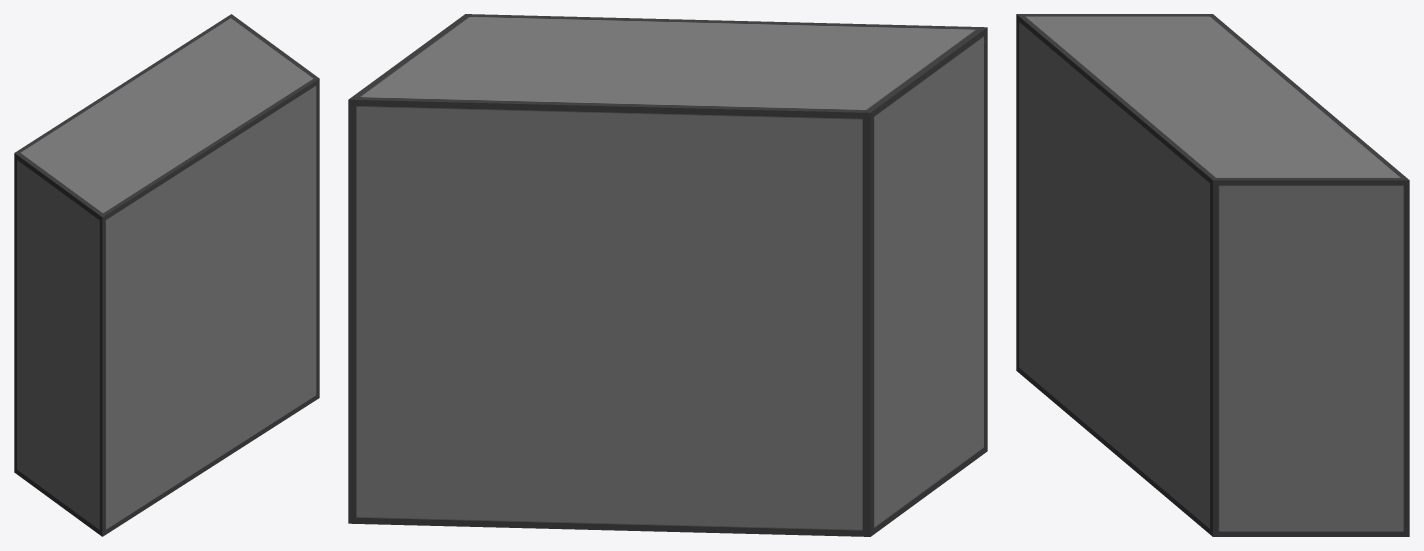
File: doubleramp_8x4.glb
3 views of the same model, side by side, from view 1: azimuth 30°, elevation 25°; view 2: azimuth 150°, elevation 25°; view 3: azimuth 270°, elevation 25° (orthographic). The views are drawn at different scales.
Parts seen in each view (by area): view 1: Cube; view 2: Cube; view 3: Cube.
Boxes of the visible parts, <box> form: Cube: <box>14,14,319,536</box>; Cube: <box>348,14,987,536</box>; Cube: <box>1016,14,1409,536</box>.
Bounding box in the file's own units: 8 × 8 × 8.
Materials: 1 (1 with a texture image).
